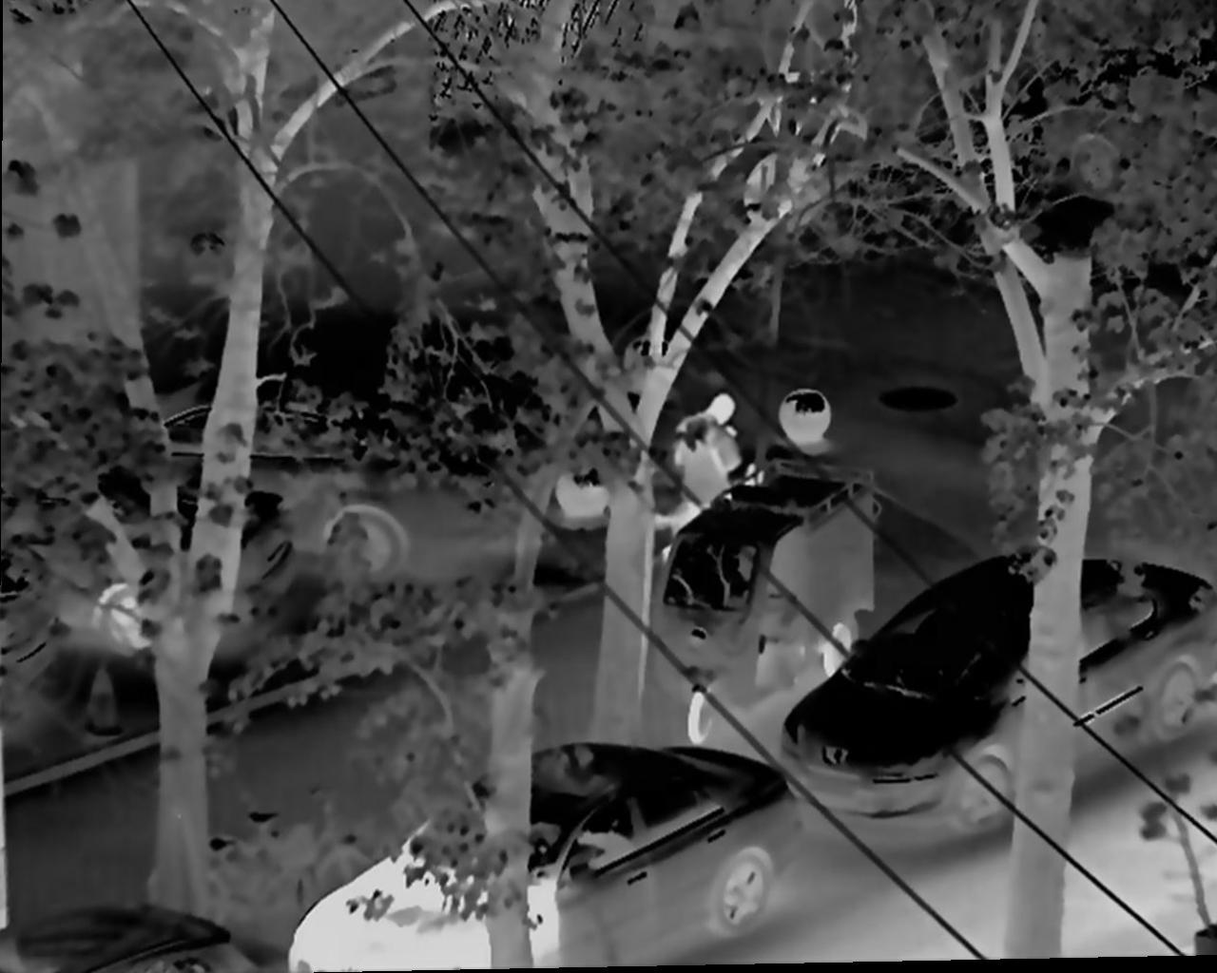person: (671, 385, 750, 550)
